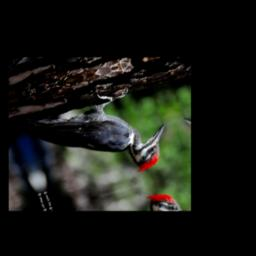Woodpecker: (16, 80, 178, 199)
